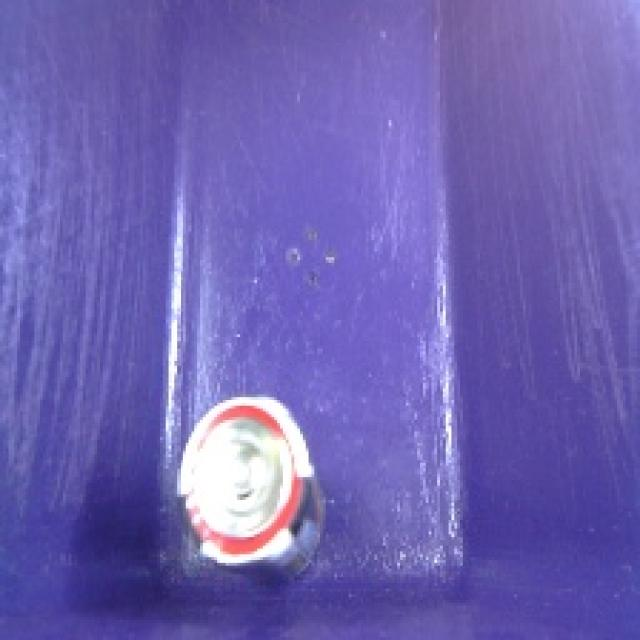battery: (170, 384, 336, 591)
